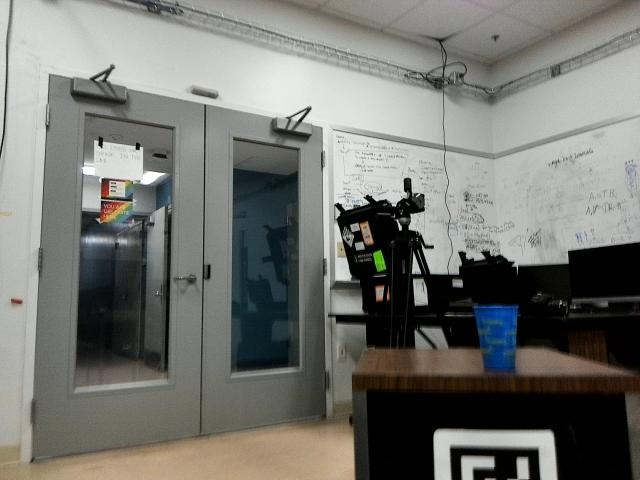water_cup: (470, 298, 522, 371)
